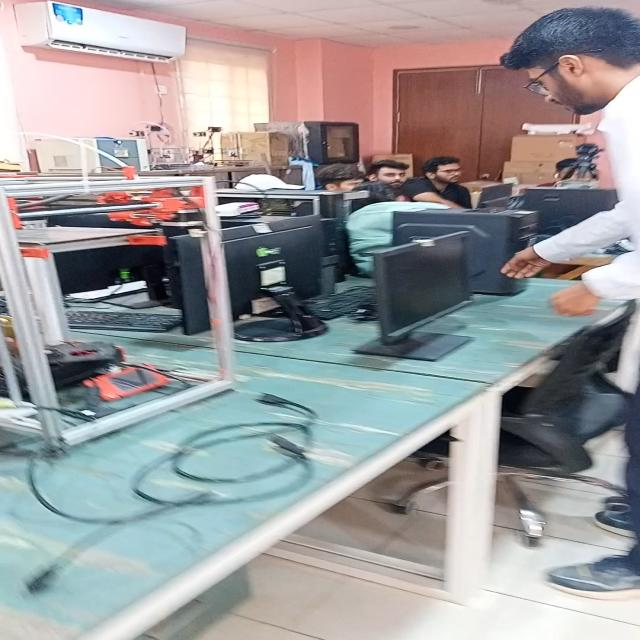dress: (496, 78, 640, 602)
glasses: (522, 80, 554, 100), (442, 166, 463, 177)
